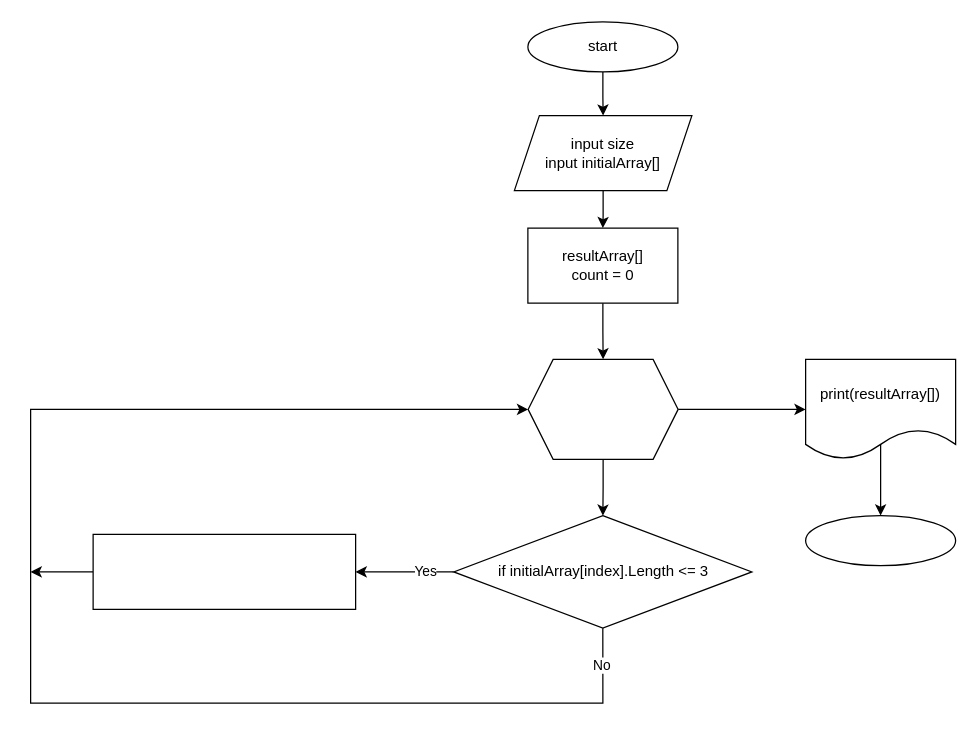
Some shapes in this 978 by 735 pixel diagram are drawn without their labels. Each missing label, with the box of its shape:
finish: (804, 514, 956, 566)
index = 1; size -1; 1: (527, 358, 678, 459)
resultArray[count] = initialArray[index] count = count + 1: (92, 533, 356, 609)
